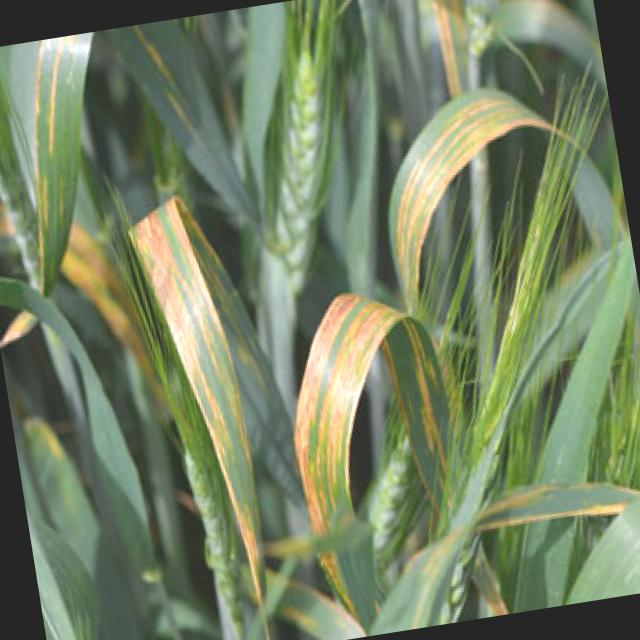leaf_blight: (134, 198, 264, 605), (293, 295, 448, 532), (389, 90, 552, 310)
